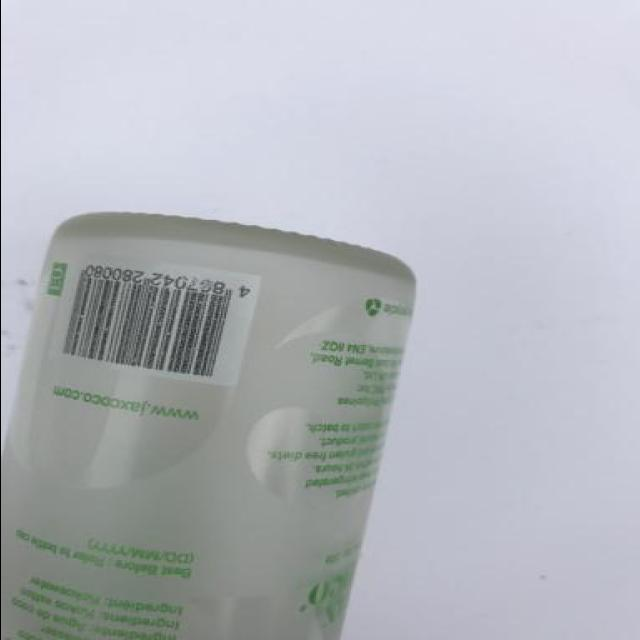Glass Bottle: (4, 211, 424, 639)
